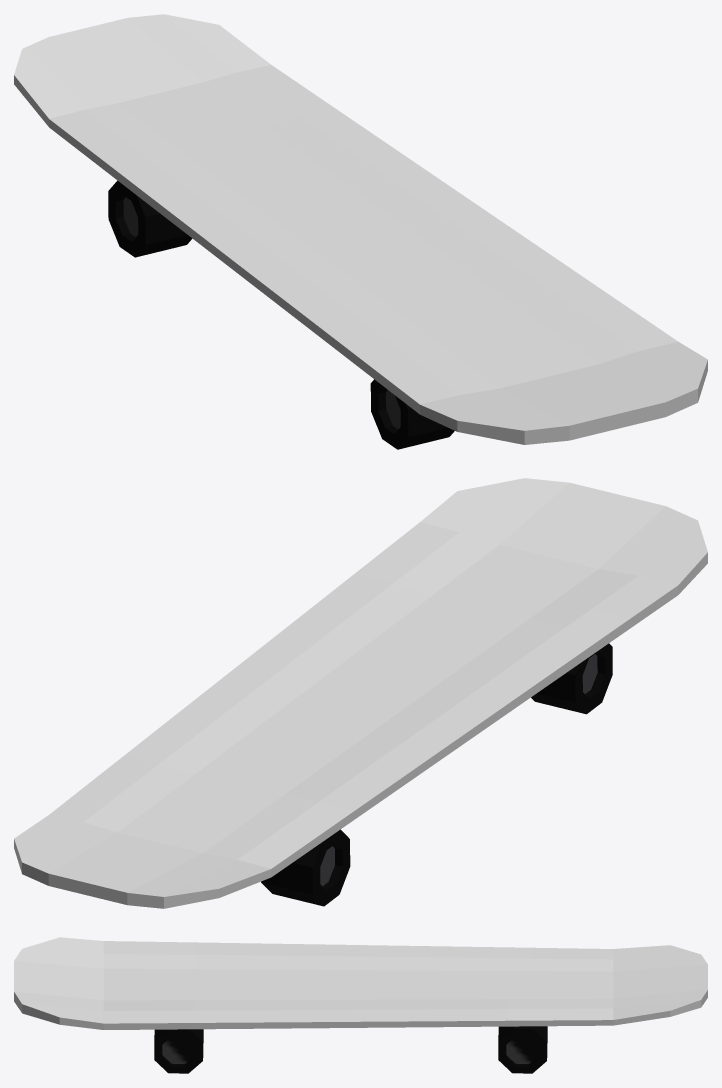
The model's file is Skateboard_CarbonValley.fbx.
3 views of the same model, one above another, from view 1: azimuth 30°, elevation 25°; view 2: azimuth 150°, elevation 25°; view 3: azimuth 270°, elevation 25° (orthographic). The views are drawn at different scales.
Parts seen in each view (by area): view 1: Skateboard_CarbonValley; view 2: Skateboard_CarbonValley; view 3: Skateboard_CarbonValley.
Part boxes in pixels (<box>): Skateboard_CarbonValley: <box>14,14,707,449</box>; Skateboard_CarbonValley: <box>14,478,707,908</box>; Skateboard_CarbonValley: <box>14,937,707,1073</box>.
Bounding box in the file's own units: 40.39 × 14.58 × 143.
